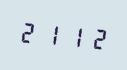one: (62, 19, 83, 51), (40, 18, 61, 49)
two: (84, 21, 105, 53), (18, 16, 39, 47)
